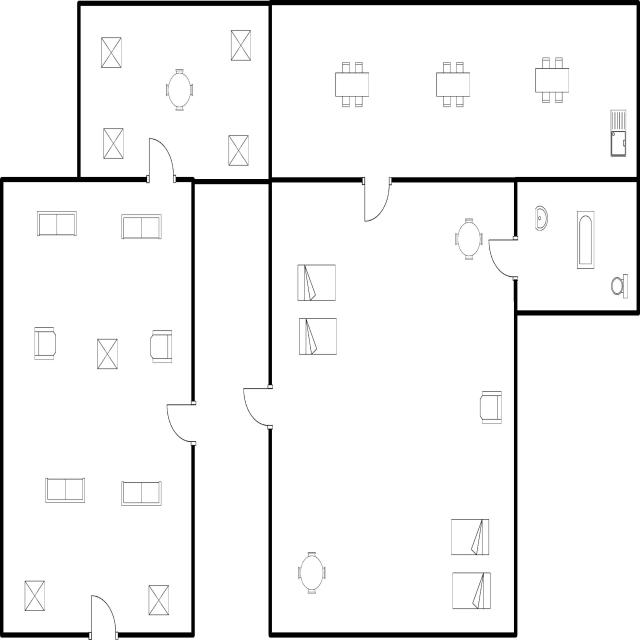armchair: (145, 324, 177, 368), (30, 320, 60, 364), (475, 386, 505, 427)
bed: (448, 566, 493, 616), (293, 260, 340, 306), (296, 314, 341, 359), (448, 514, 492, 560)
coffee_table: (96, 31, 125, 72), (99, 122, 127, 164), (228, 24, 254, 68), (21, 575, 48, 617), (94, 334, 122, 374), (144, 580, 172, 620), (225, 132, 251, 168)
dining_table: (432, 56, 474, 115), (330, 56, 373, 112), (532, 53, 572, 111)
large_sink: (608, 264, 632, 304)
large_sofa: (31, 206, 80, 243), (117, 208, 166, 244), (41, 474, 90, 509), (118, 476, 165, 512)
round_table: (161, 65, 197, 116), (452, 213, 486, 266), (294, 548, 329, 599)
sink: (606, 106, 630, 162)
small_sink: (530, 201, 552, 235)
tub: (573, 205, 597, 273)
